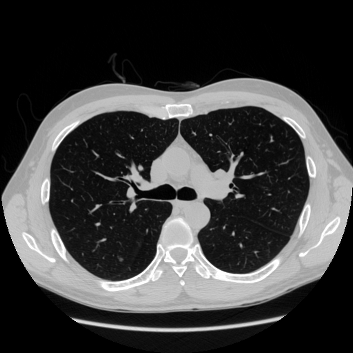nodule: (118, 257, 122, 261)
